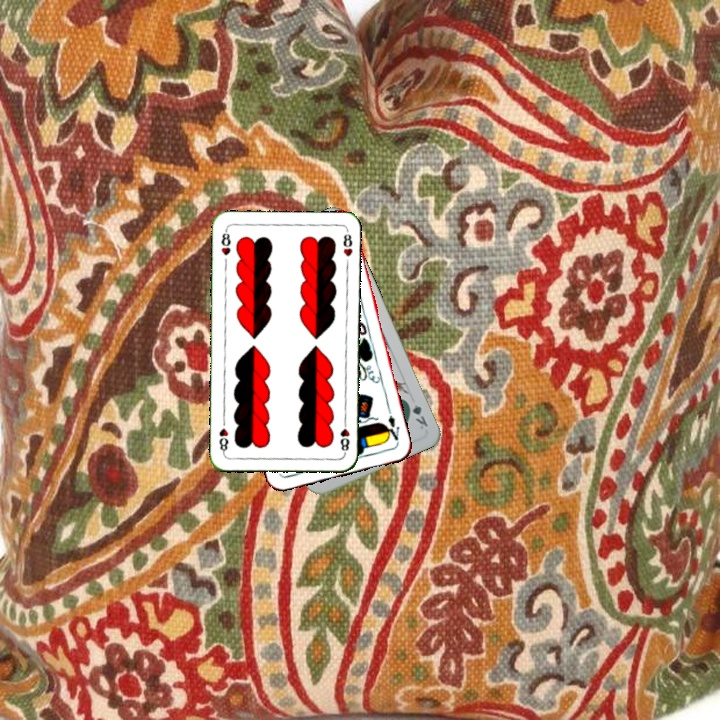EA: (381, 406, 402, 446)
GK: (402, 396, 431, 432)
H8: (336, 416, 352, 456), (217, 226, 233, 258)
